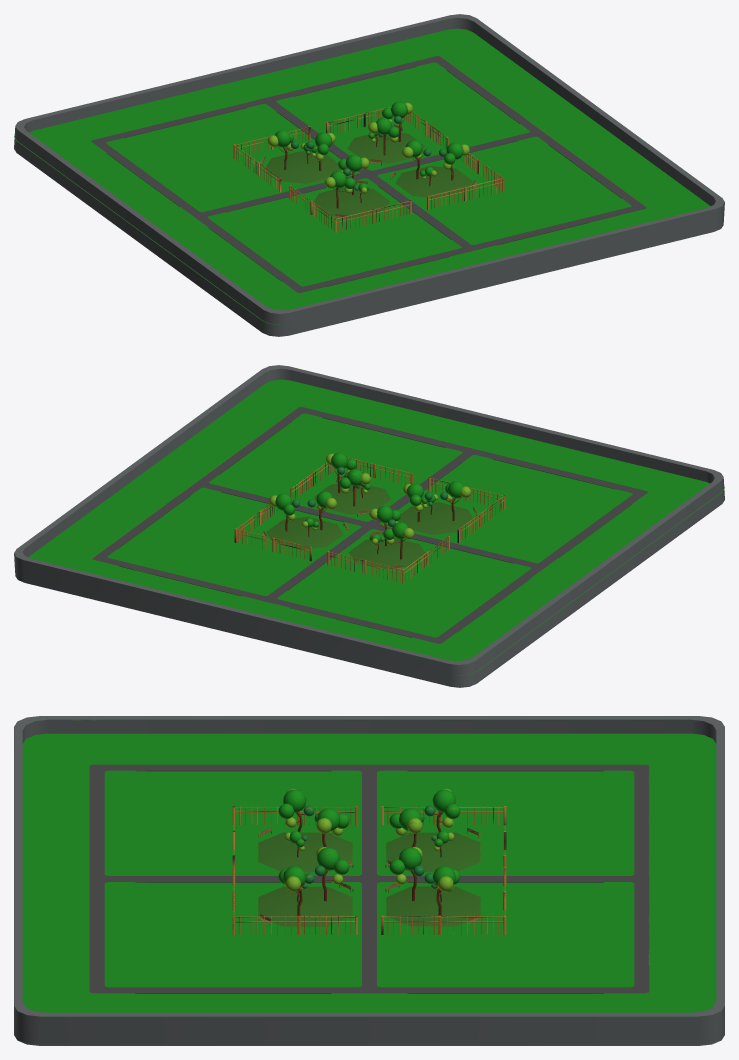
The model's file is city2.fbx.
3 views of the same model, one above another, from view 1: azimuth 30°, elevation 25°; view 2: azimuth 150°, elevation 25°; view 3: azimuth 270°, elevation 25° (orthographic). The views are drawn at different scales.
Visible parts, largest first — view 1: Garden Fences; view 2: Garden Fences; view 3: Garden Fences.
Part boxes in pixels (x1=…): Garden Fences: x1=14, y1=14, x2=724, y2=336; Garden Fences: x1=14, y1=365, x2=724, y2=687; Garden Fences: x1=14, y1=716, x2=724, y2=1045.
Bounding box in the file's own units: 14440 × 1494 × 14400.
Materials: 1 (1 with a texture image).
